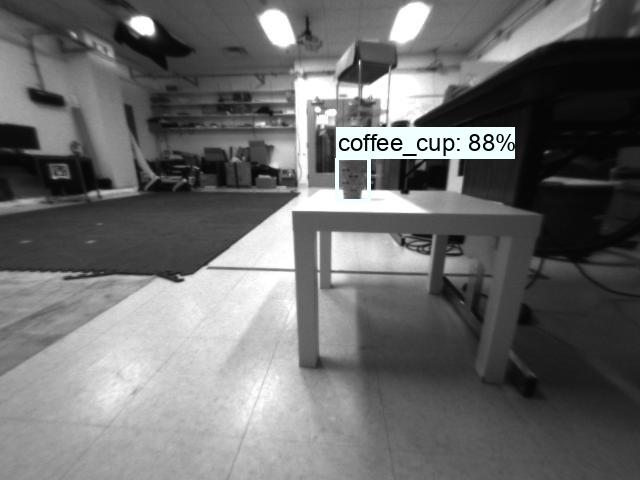coffee_cup: (336, 158, 368, 200)
